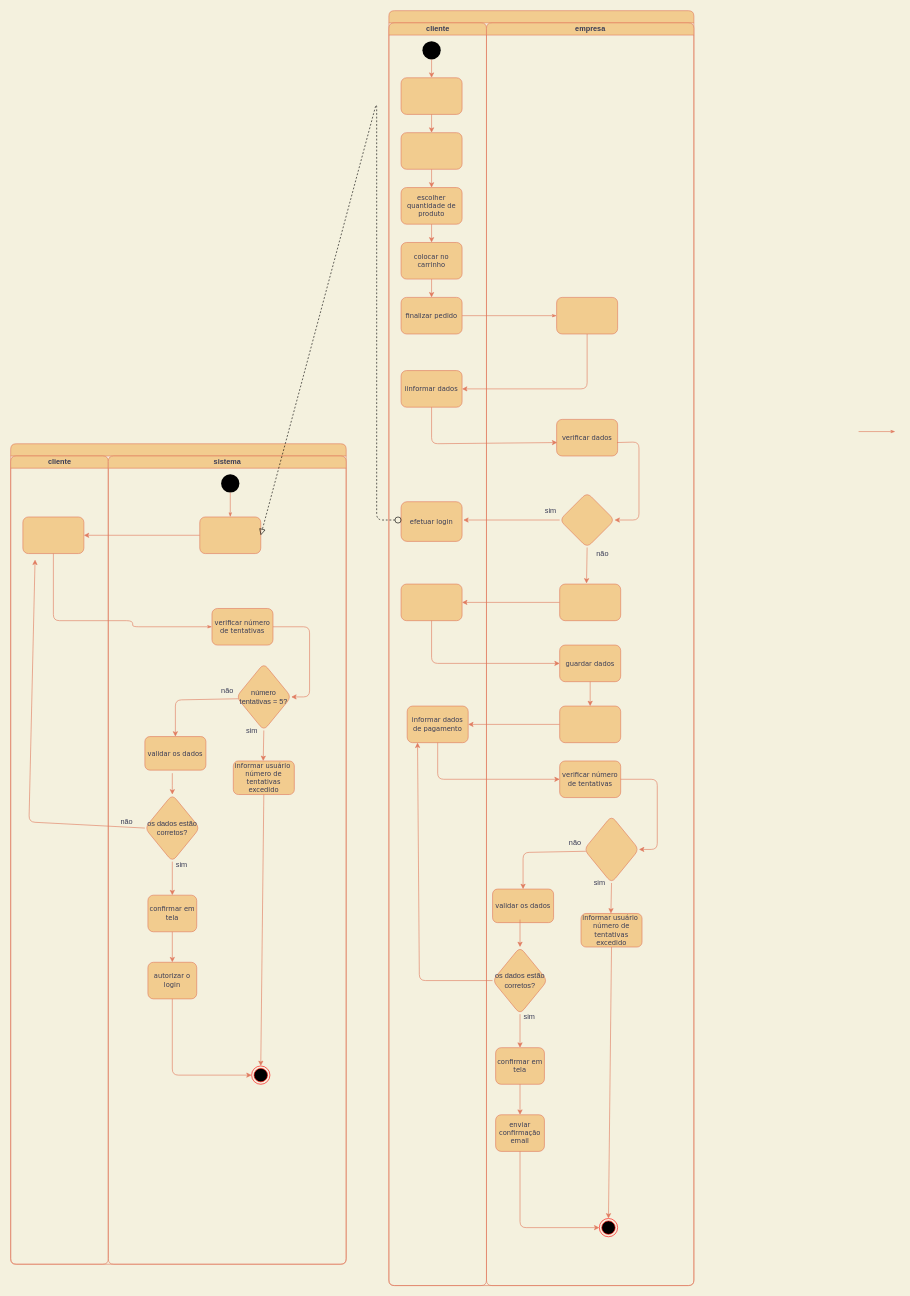
Image size: 910x1296. Some labels were removed from this diagram. The shapes that lost their labels are listed below. From the top down, each one's box as (x1, y1, x2, y2) in pixels, then its label:
(400, 77, 462, 114): navegar site
(400, 132, 462, 169): escolher produtos
(556, 297, 618, 334): solicitar dados cliente
(22, 516, 84, 554): informar dados de login
(199, 516, 261, 554): solicitar dados de login
(559, 492, 615, 547): cpf existente?
(400, 583, 462, 621): informar todos dados
(559, 583, 621, 621): solicitar dados para cadastro
(388, 10, 694, 1286): DIAGRAMA ATIVIDADE - CADASTRO CLIENTE E COMPRA CARTÃO
(559, 705, 621, 743): solicitar dados do pagamento
(10, 443, 346, 1264): DIAGRAMA ATIVIDADE - LOGIN
(583, 815, 639, 883): número tentativas = 3?
